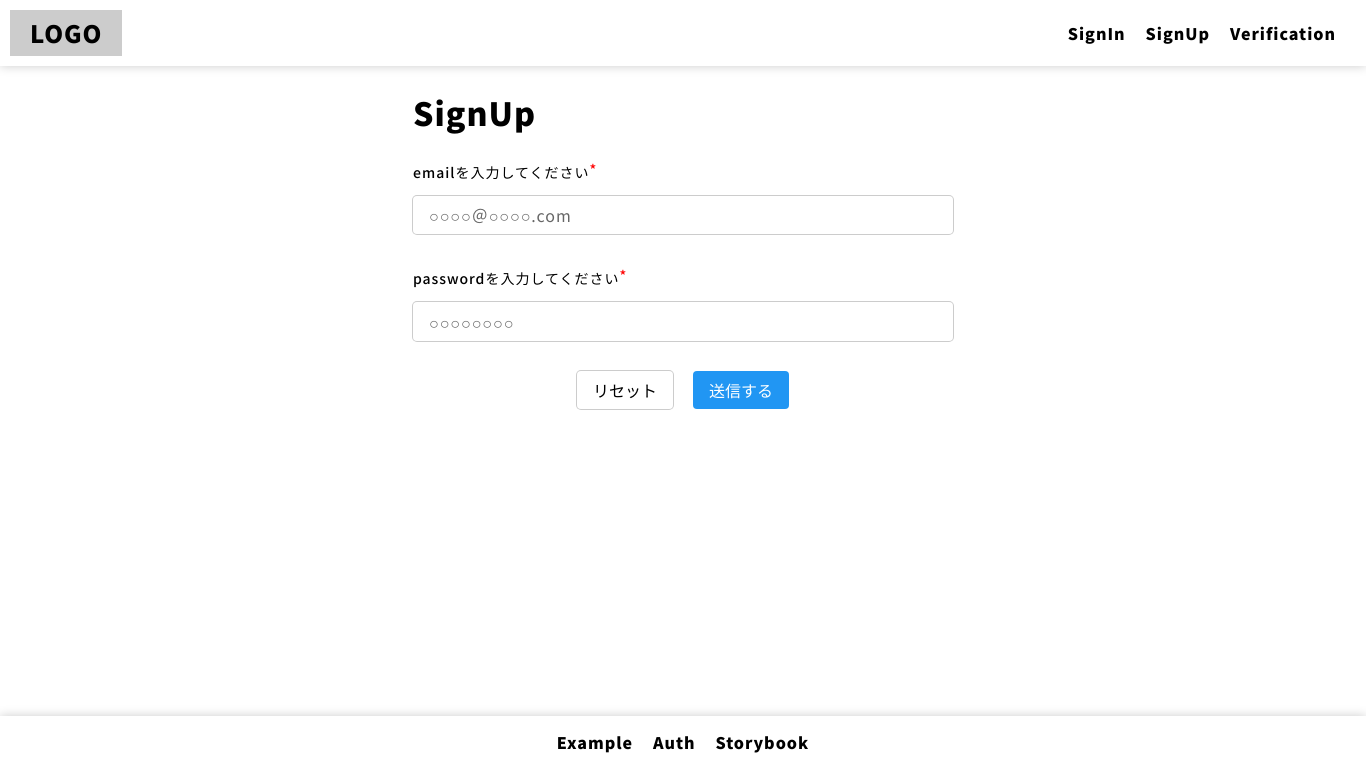
SignUp page › renders and reports a successful submission
Expected: the heading "SignUp" is shown, [413,89,536,135]
Type "new@example.com" into the field with placeholder "○○○○＠○○○○.com" at (683, 215), box [413,196,953,234]
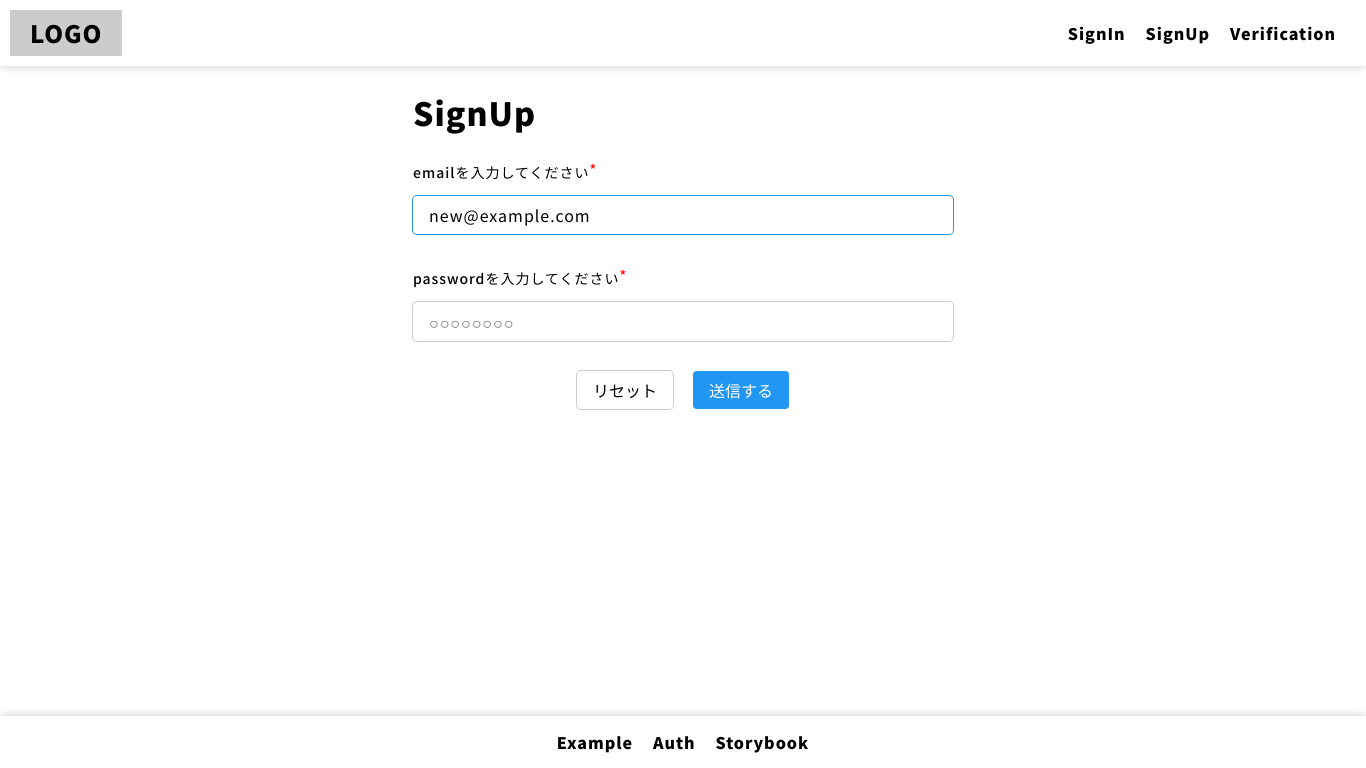
Type "password" into the password field with placeholder "○○○○○○○○" at (683, 322), box [413,302,953,341]
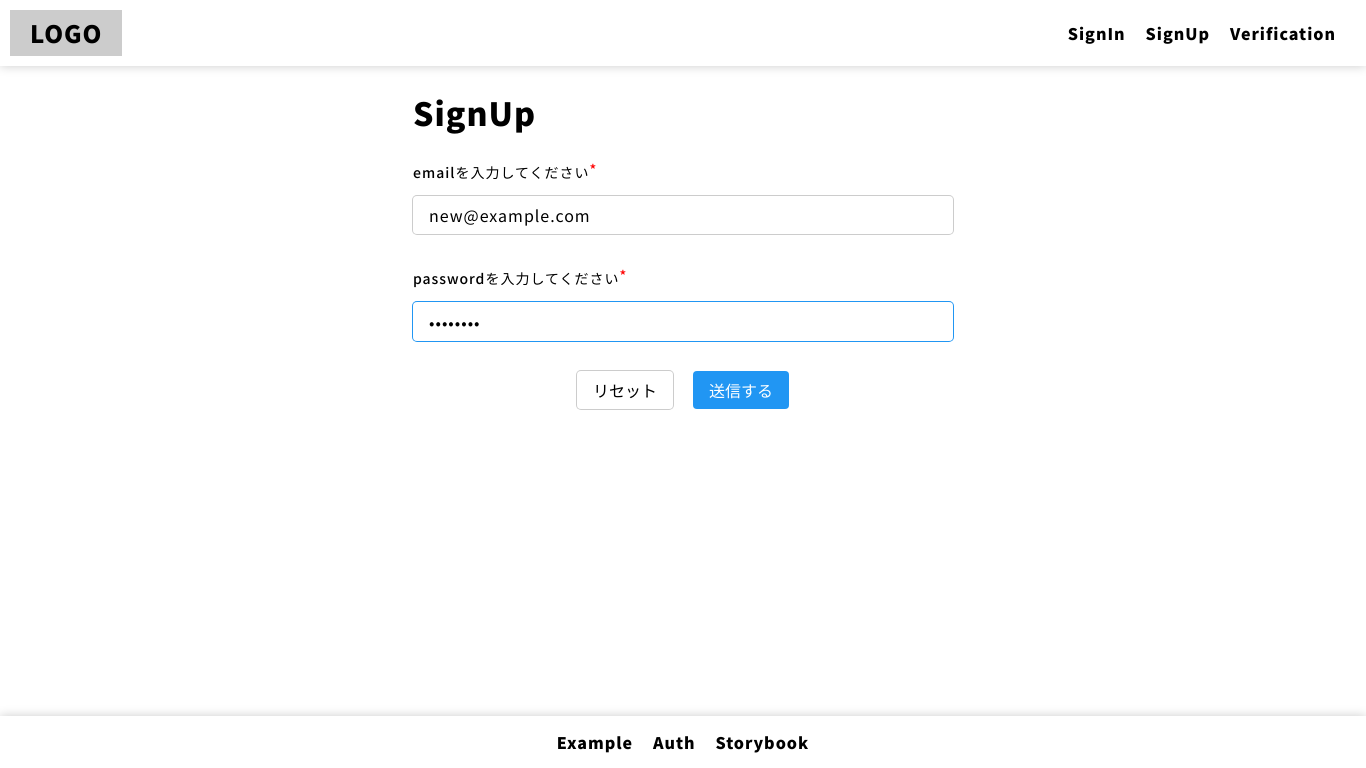
Click the button "送信する" at (741, 390), box [693,371,789,409]
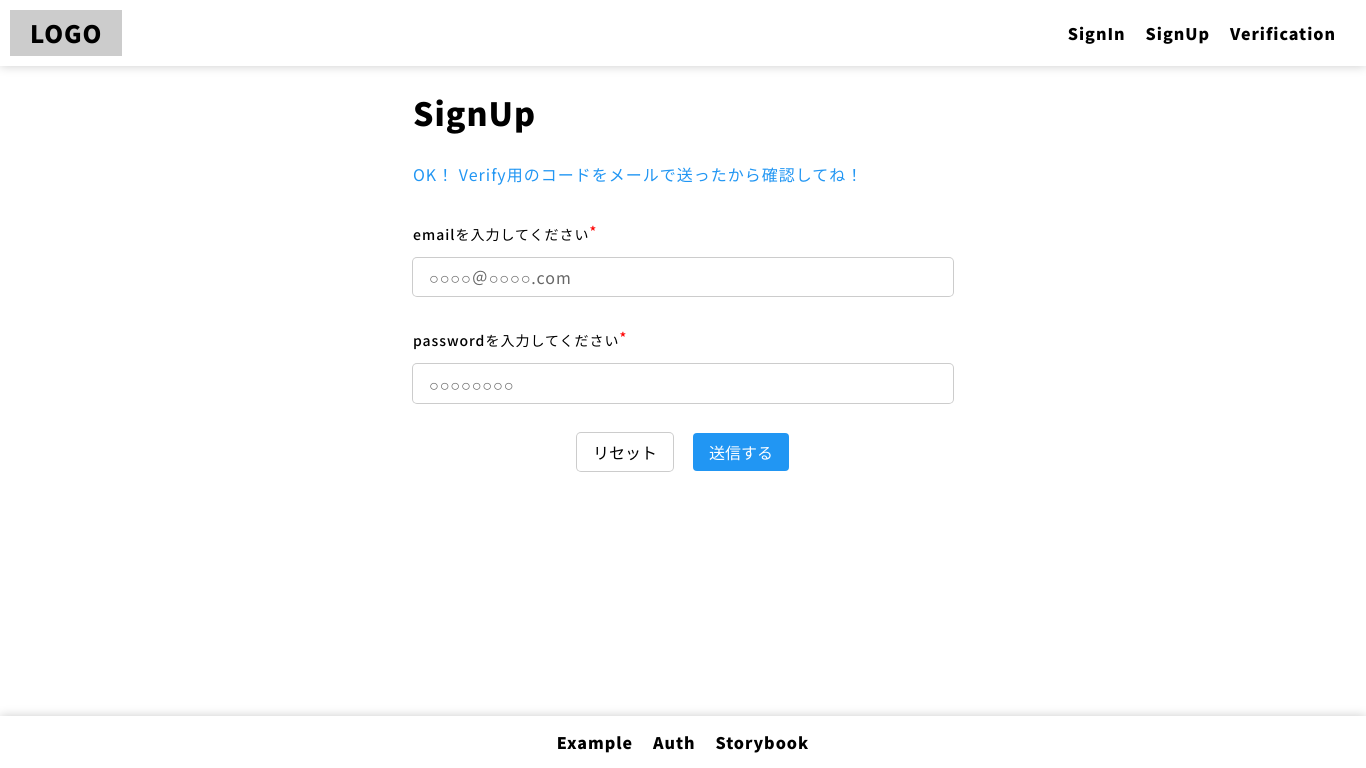
Result: the text "OK！ Verify用のコードをメールで送ったから確認してね！" is shown at [413,162,863,186]
